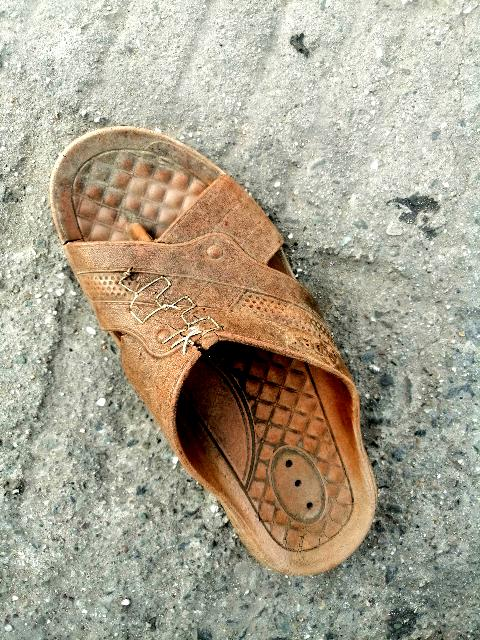sandal: (15, 83, 427, 609)
